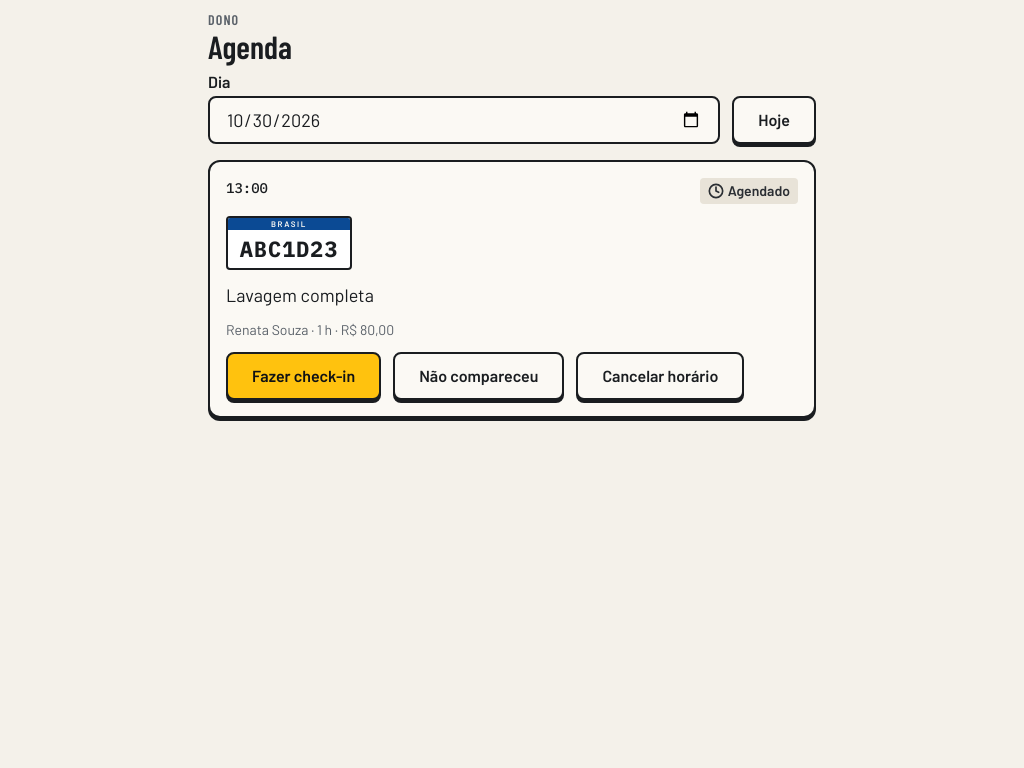
Test: Agenda do dono › marca falta depois de confirmar
The image size is (1024, 768).
Click the button "Não compareceu". click: point(479, 376)
box: [393, 352, 564, 400]
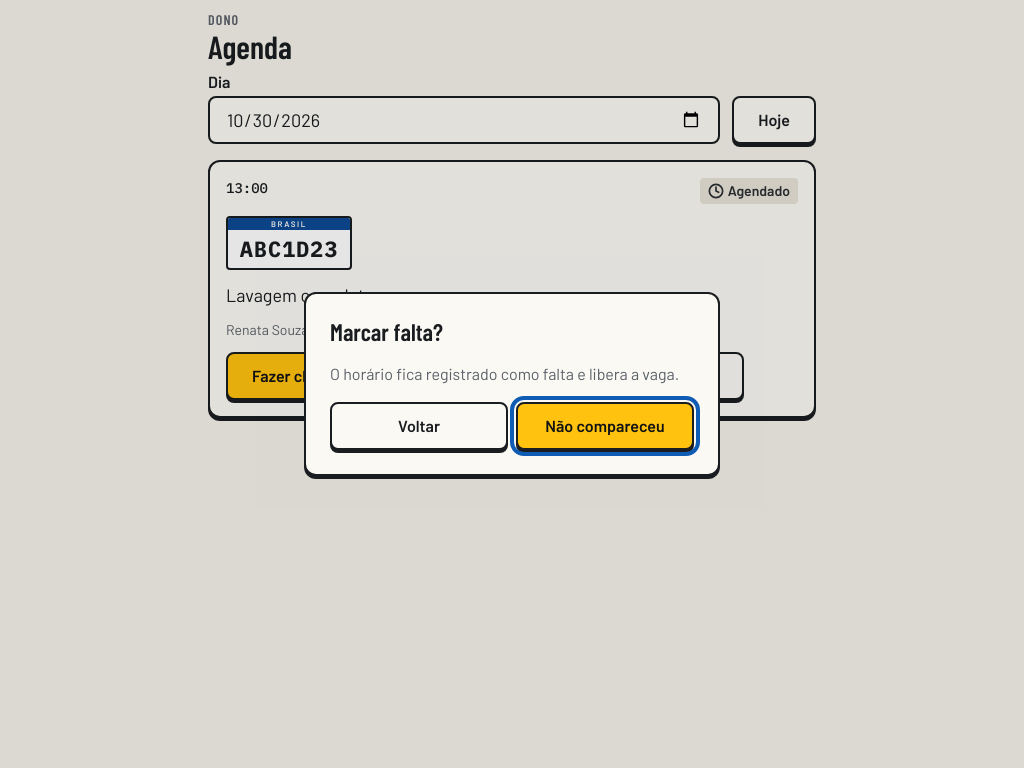
Click the button "Não compareceu". click: point(605, 426)
box: [516, 402, 694, 450]
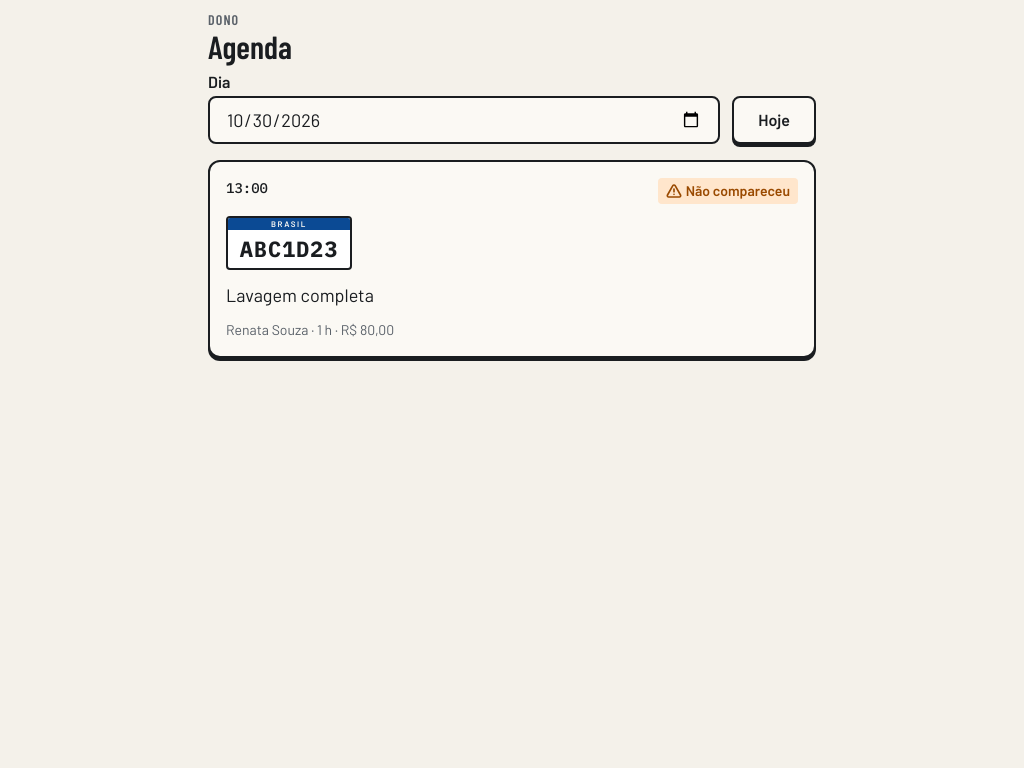
Now the text "Não compareceu" is shown, box [658, 178, 798, 204]
